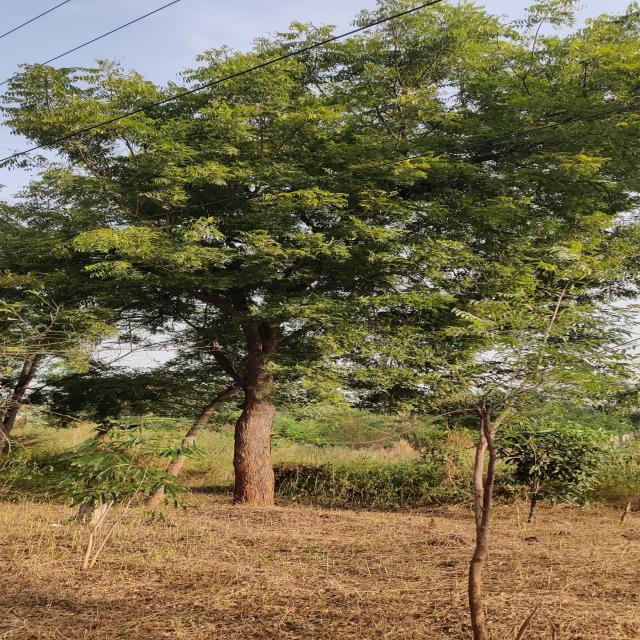Neem Tree: (18, 2, 640, 347)
